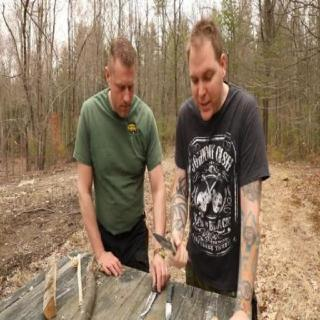knife: (150, 225, 192, 269)
